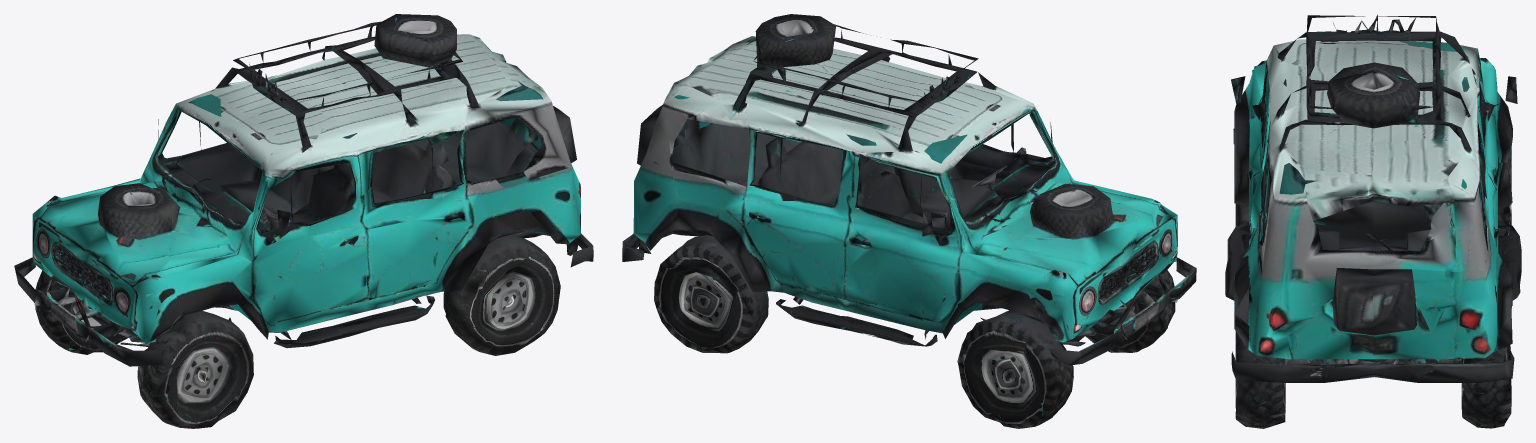
Rendered from r_suv.glb.
3 renders of one model, left to right at view 1: azimuth 30°, elevation 25°; view 2: azimuth 150°, elevation 25°; view 3: azimuth 270°, elevation 25°, orthographic. The views are drawn at different scales.
Bounding box in the file's own units: 1.9 × 1.07 × 0.8825.
Materials: 1 (1 with a texture image).
